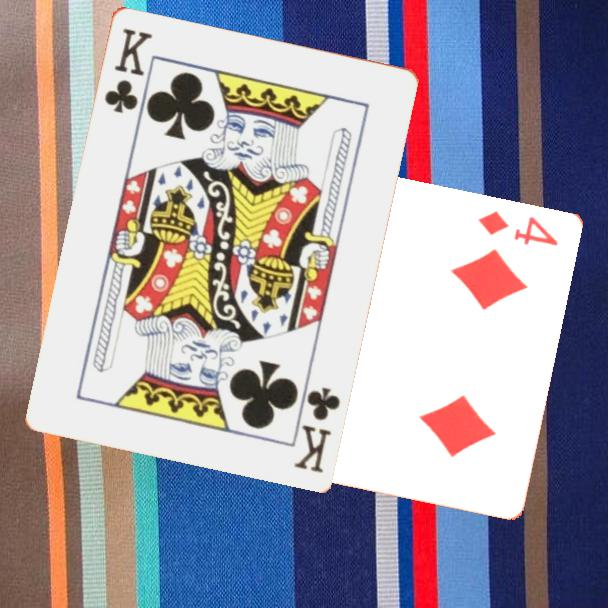c13: (100, 24, 155, 116), (290, 383, 343, 476)
d04: (475, 207, 562, 248)
